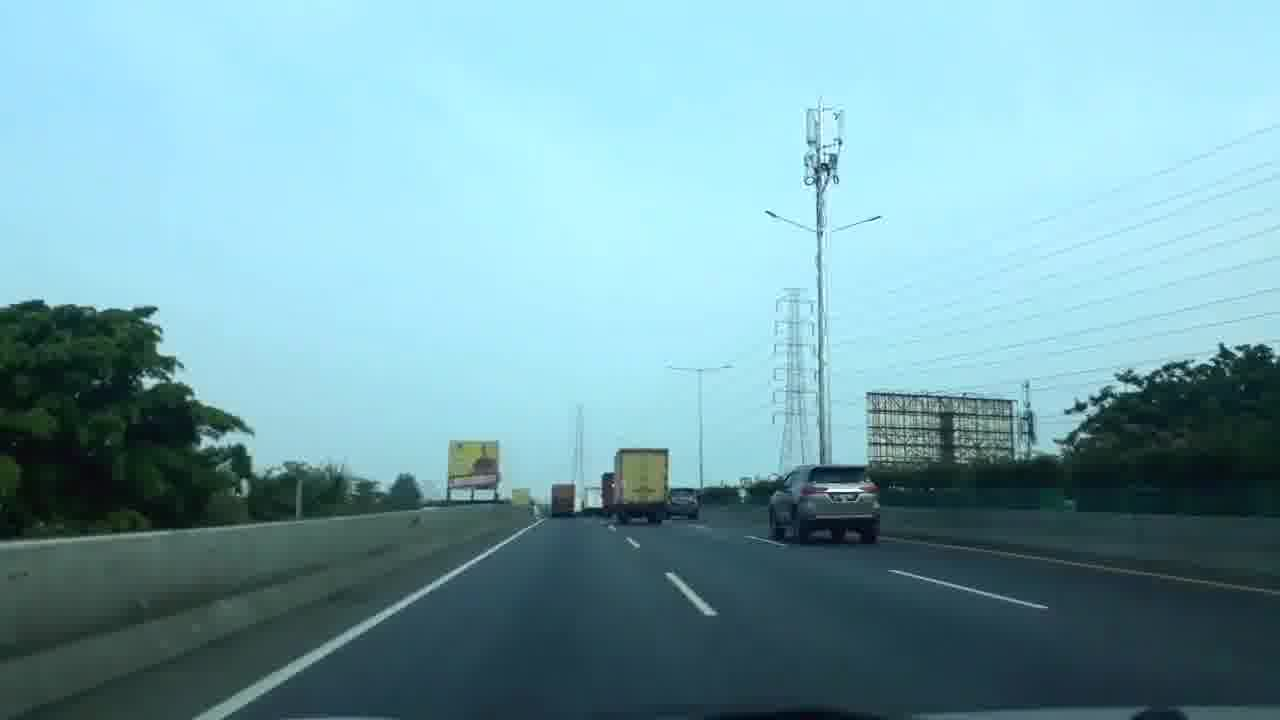plate_positive: (832, 493, 856, 501)
